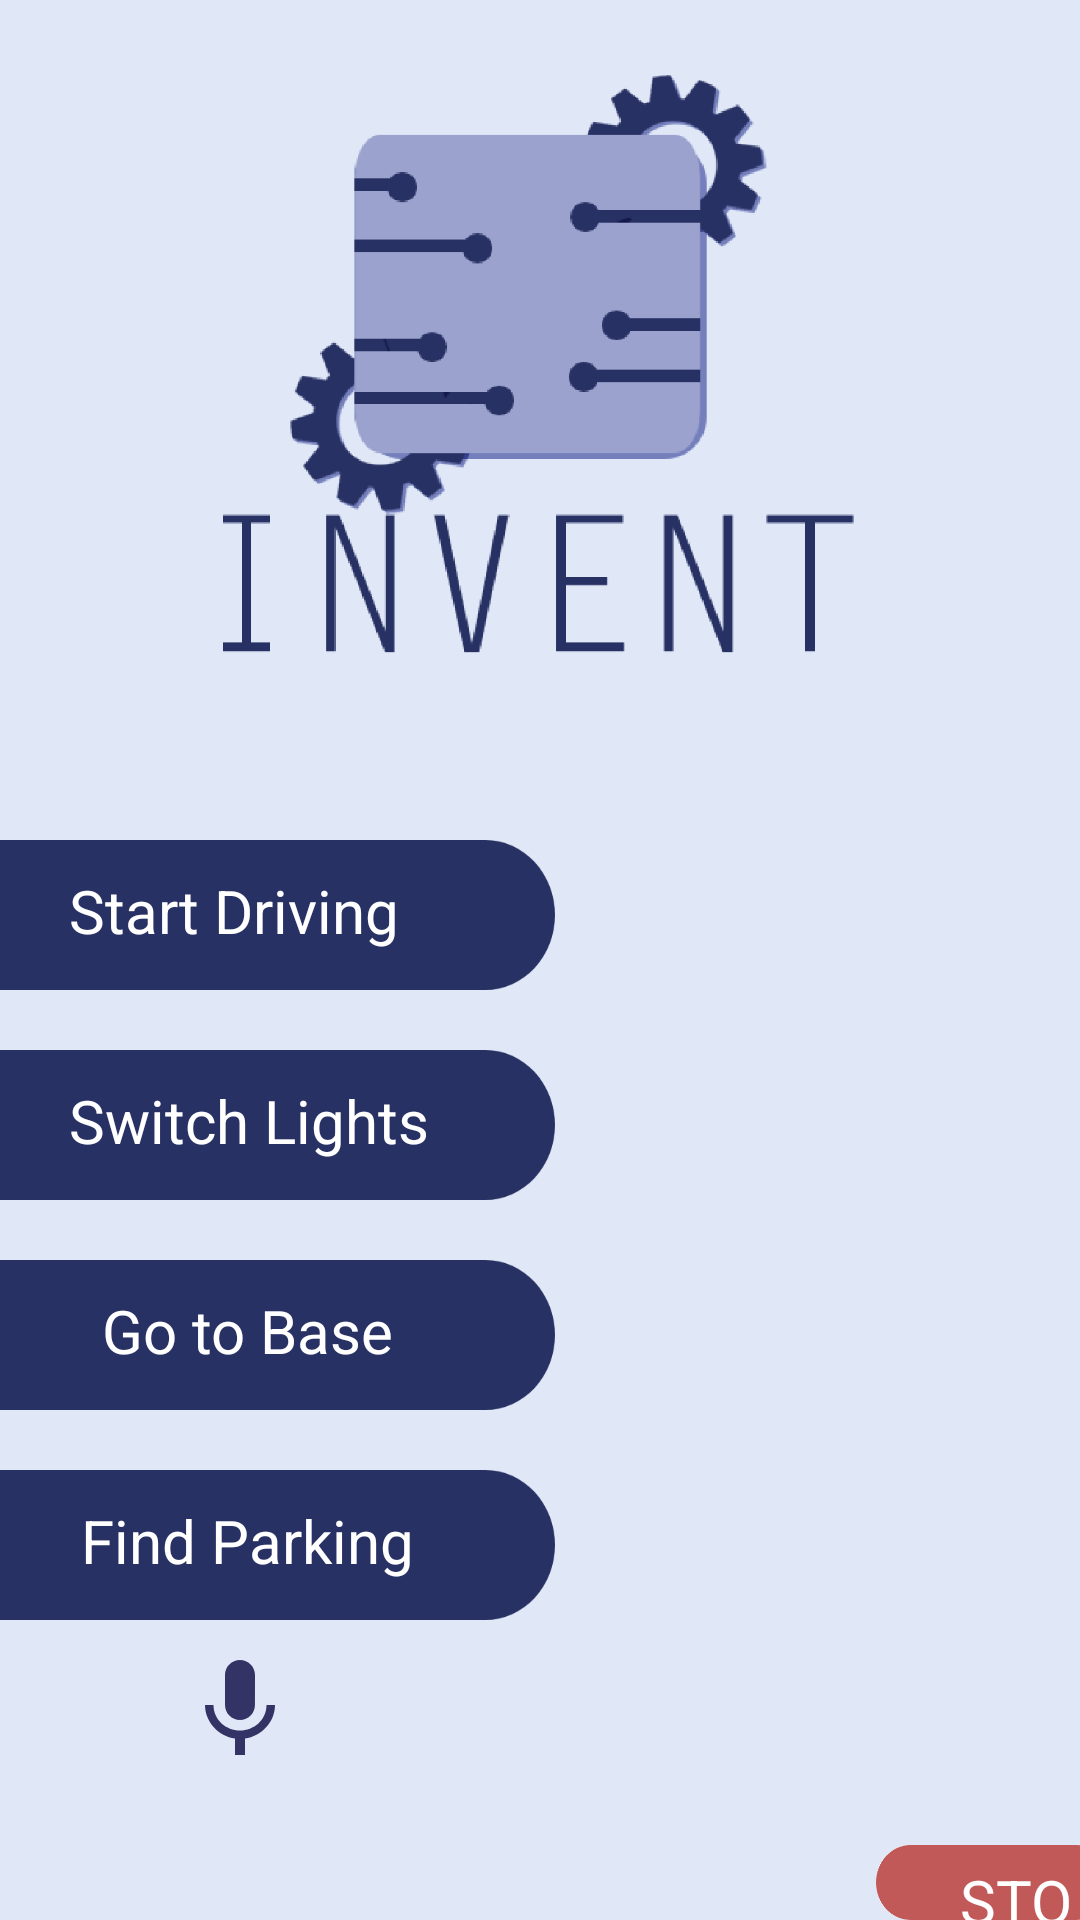

Named icons in this screenshot (1080px×1920px) and their bounding boxes, (x1, y1, x2, y2):
mic: (205, 1660, 275, 1755)
